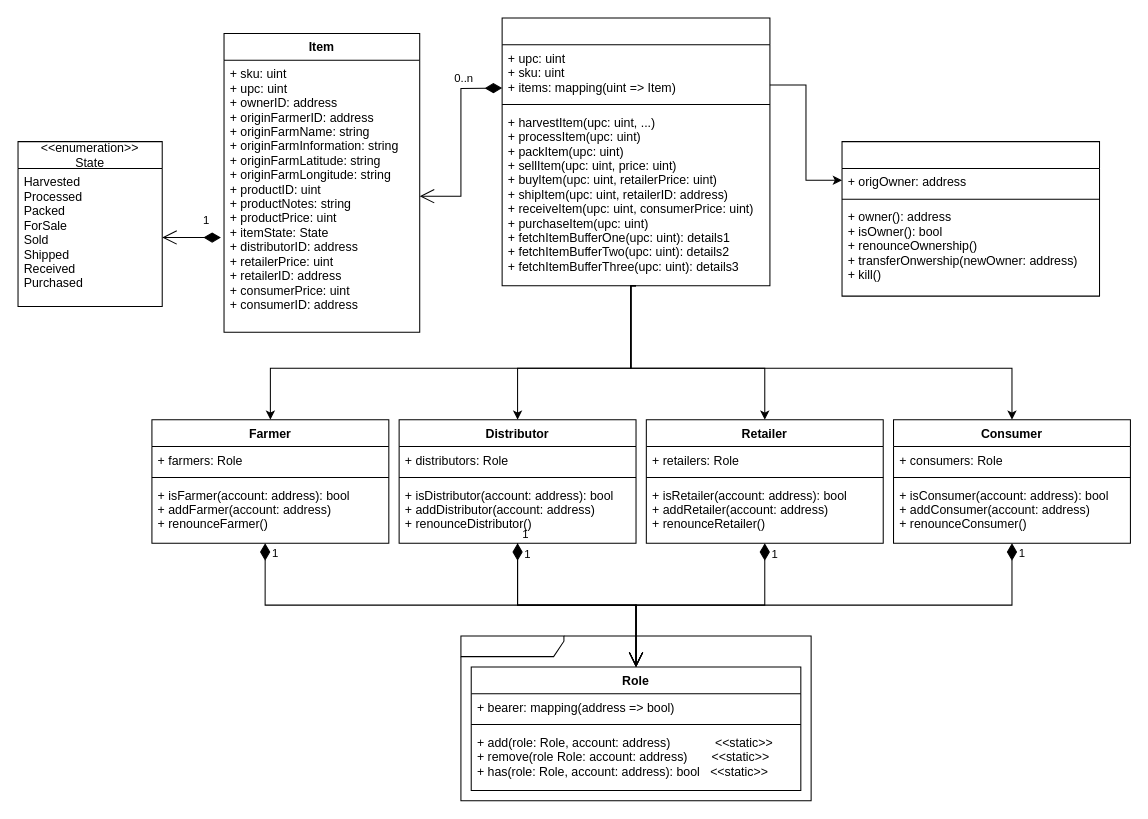
The diagram is 1148 pixels wide and 819 high, and some of its shapes have lost their labels. Here are the shapes that lost their labels. From the top down, the box of each, then its label:
(501, 17, 770, 286): SupplyChain
(841, 141, 1100, 296): Ownable
(460, 635, 811, 801): Roles
